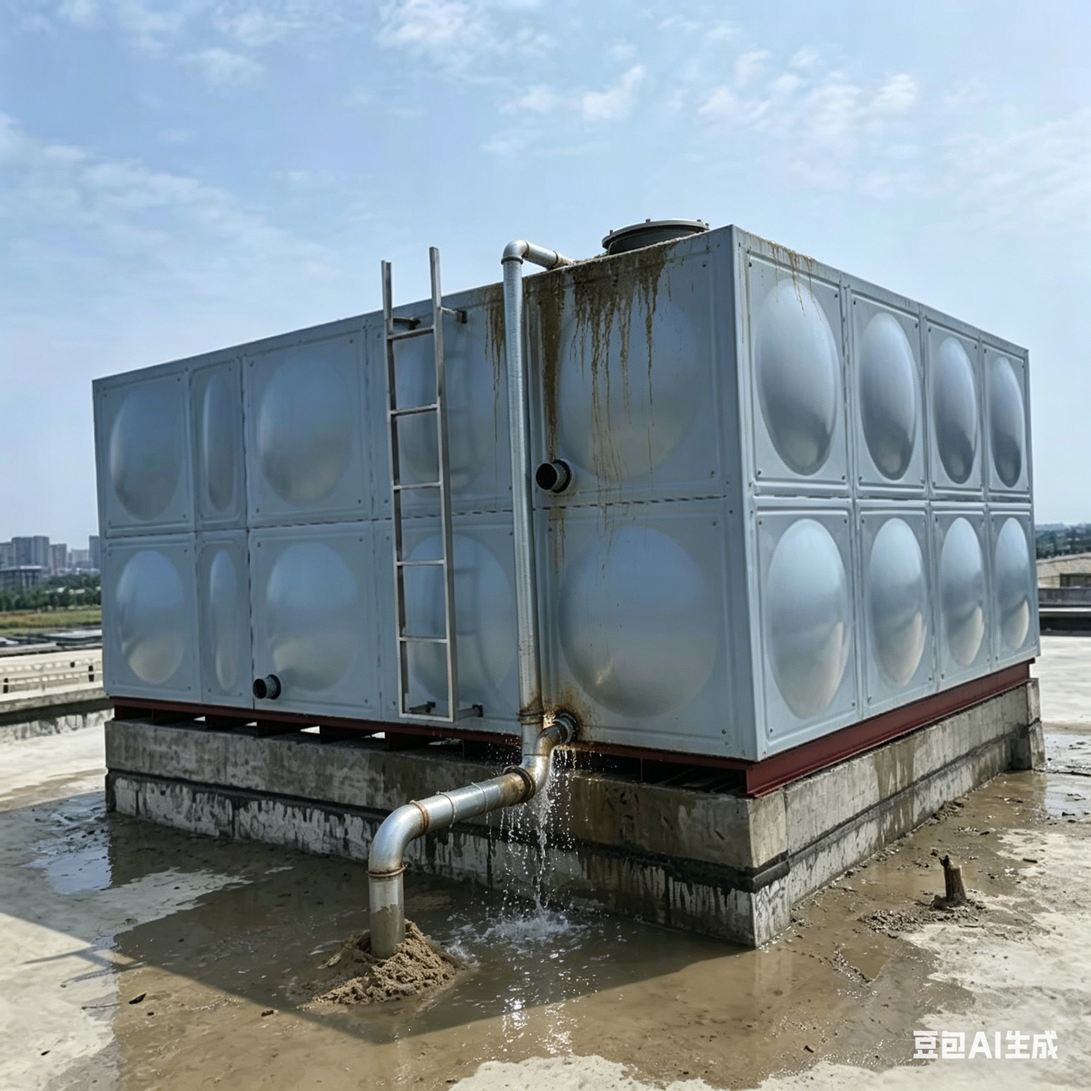Leakage: (116, 943, 467, 1091), (487, 700, 606, 1063), (612, 906, 870, 1073), (477, 213, 690, 399), (808, 810, 1015, 915), (917, 712, 1091, 824), (225, 852, 469, 929), (42, 816, 199, 892)
